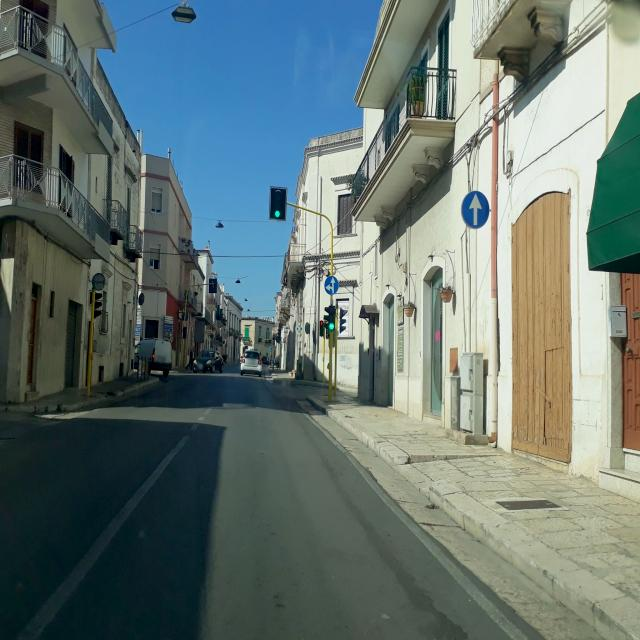car: (132, 338, 173, 377), (194, 348, 223, 374), (240, 349, 263, 377)
